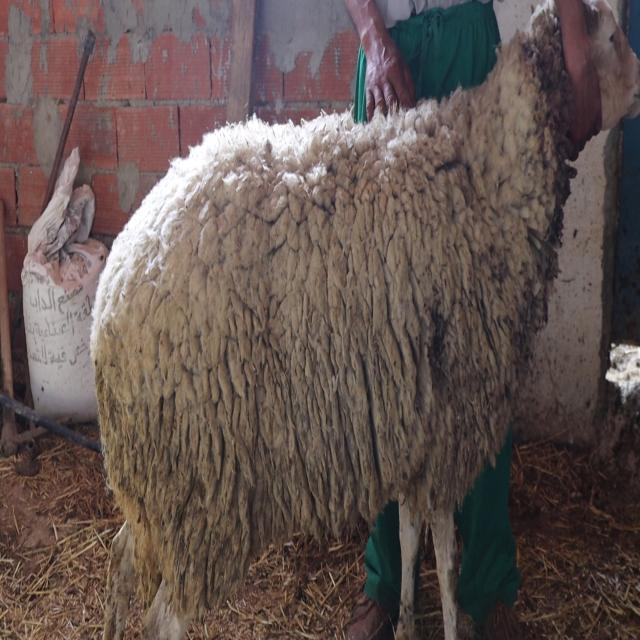Score_4: (91, 0, 584, 639)
